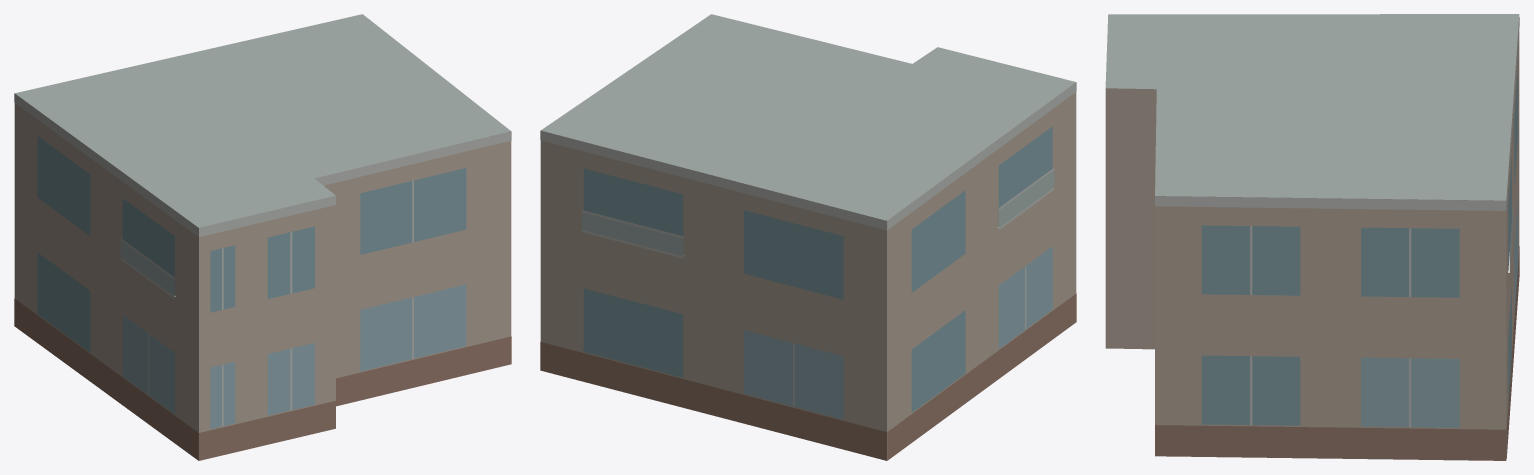
The model's file is survey-upis-32628870.glb.
3 renders of one model, left to right at view 1: azimuth 30°, elevation 25°; view 2: azimuth 150°, elevation 25°; view 3: azimuth 270°, elevation 25°, orthographic. The views are drawn at different scales.
Parts seen in each view (by area): view 1: survey-upis-32628870.tmp; view 2: survey-upis-32628870.tmp; view 3: survey-upis-32628870.tmp.
Boxes of the visible parts, x1,y1,x2,y2 form: survey-upis-32628870.tmp: (14,14,511,460); survey-upis-32628870.tmp: (540,14,1076,460); survey-upis-32628870.tmp: (1105,14,1519,460).
Size of the model in its own units: 9.42 by 6.1 by 8.8.
